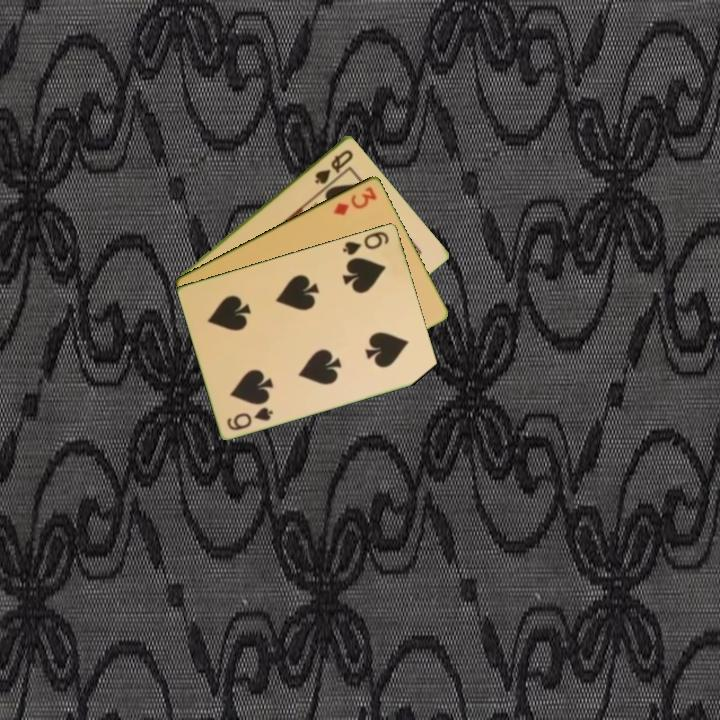3d: (330, 183, 380, 218)
6s: (339, 227, 392, 258), (224, 403, 276, 433)
Qs: (311, 146, 356, 187)
